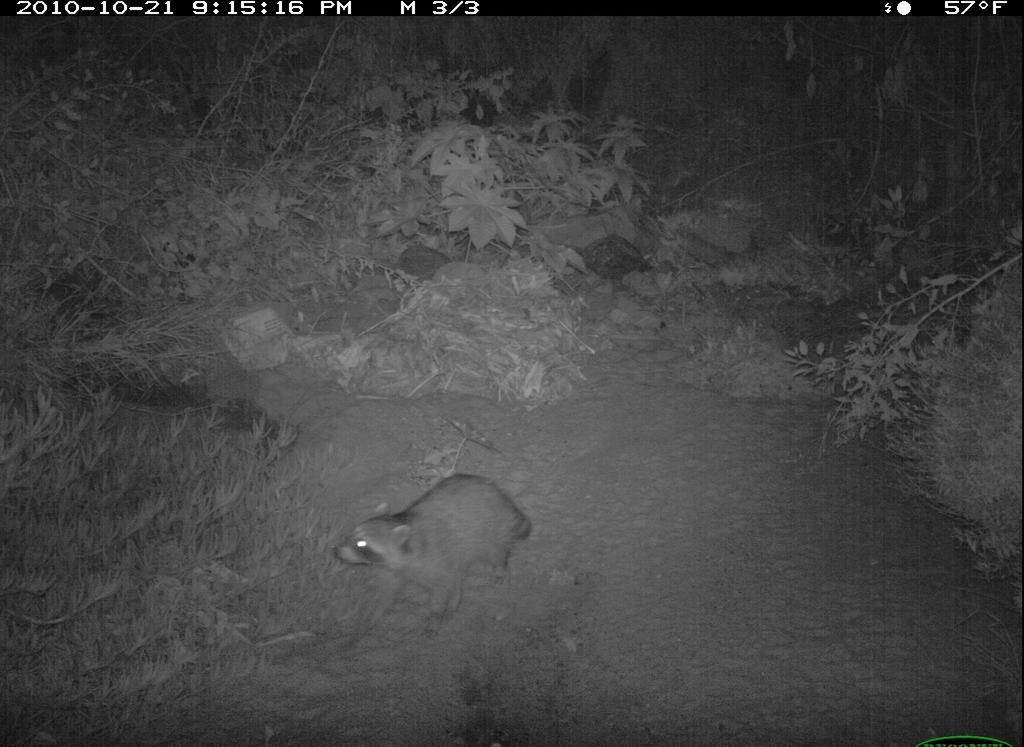raccoon: (332, 472, 539, 633)
